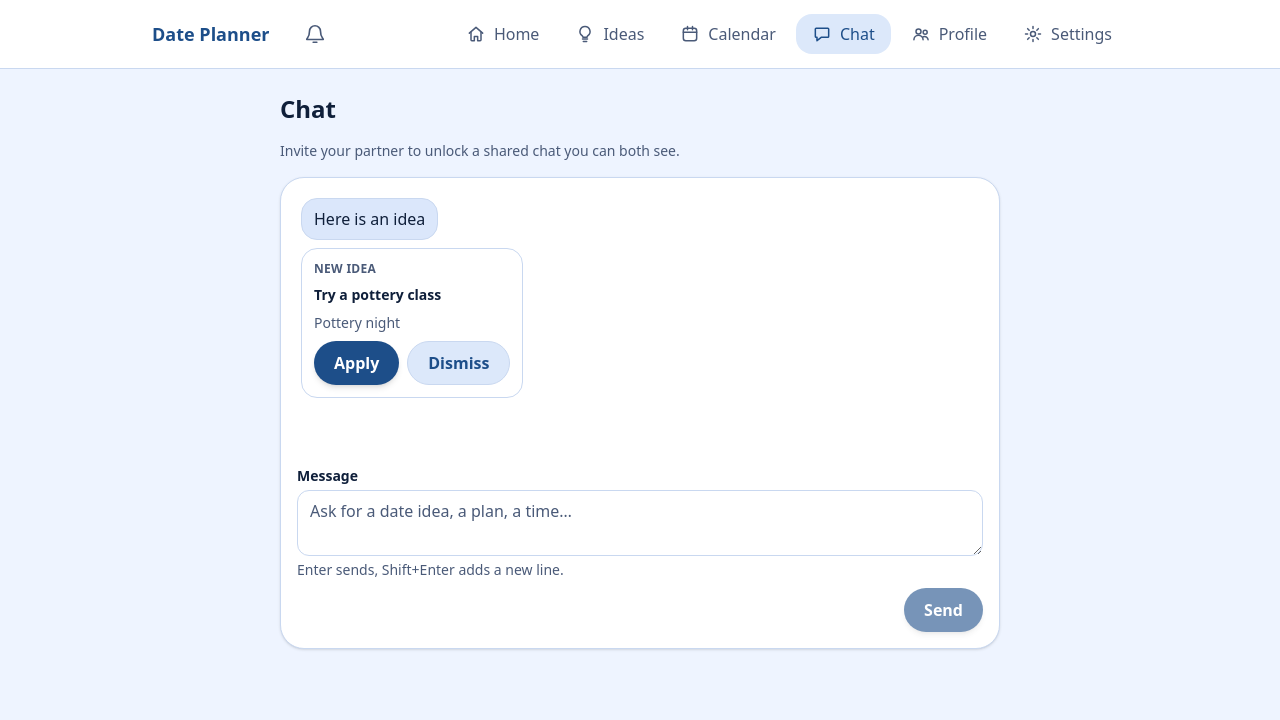
Test: ChatPage action cards › applies a suggestion, marks it added and links to what it created
Expected: the text "Pottery night" is shown, [314,313,400,332]
Click the button "Apply" at [357, 363], box [314,341,399,385]
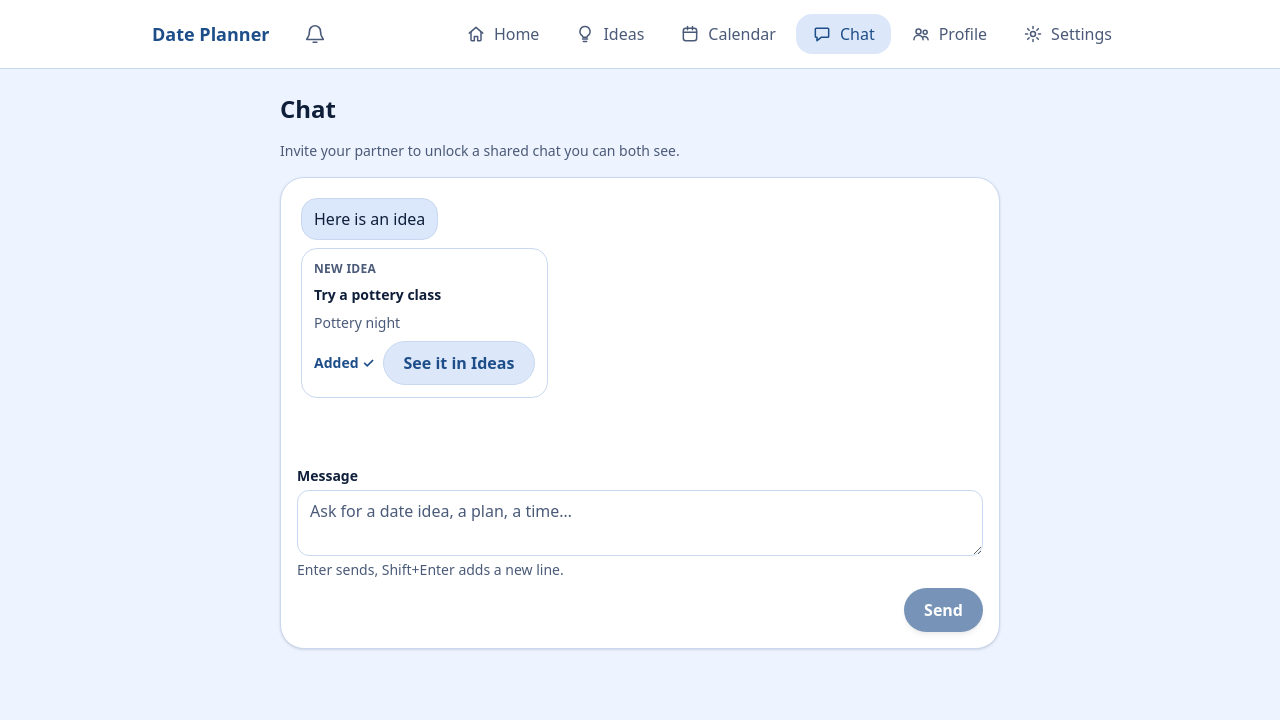
Expected: the text "Added ✓" is shown, [314,353,374,373]
Expected: the button "Apply" is gone
